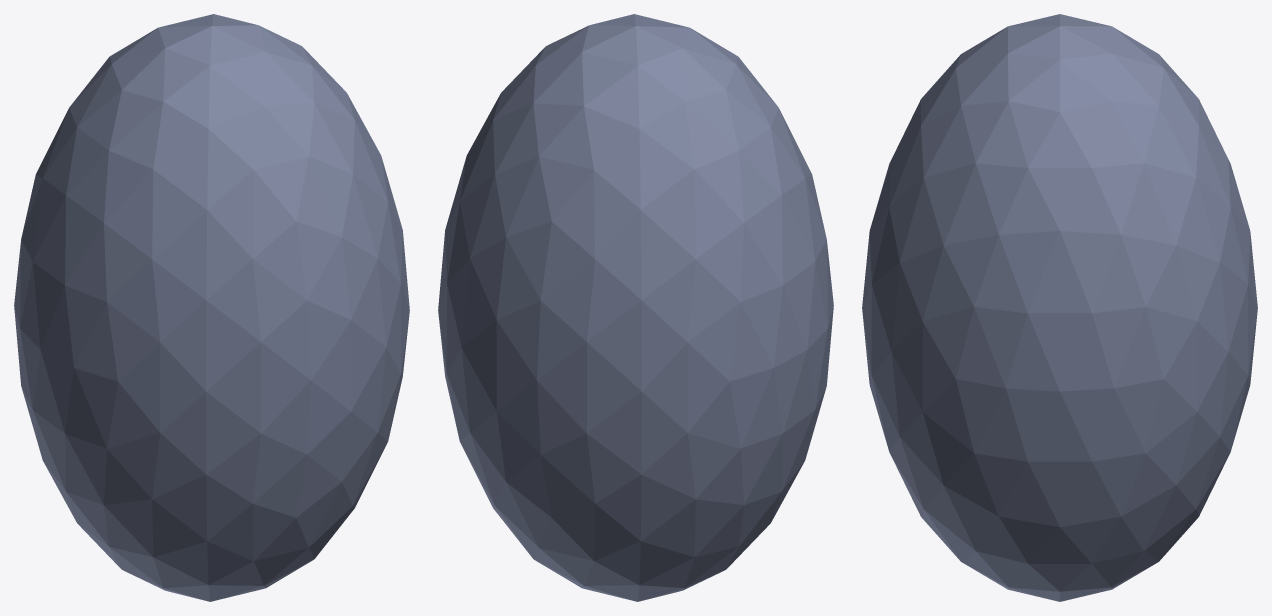
The model's file is luxury_184.glb.
The picture shows the model from 3 angles, left to right: view 1: azimuth 30°, elevation 25°; view 2: azimuth 150°, elevation 25°; view 3: azimuth 270°, elevation 25°; orthographic projection.
Parts seen in each view (by area): view 1: world; view 2: world; view 3: world.
Boxes of the visible parts, x1,y1,x2,y2 form: world: [14, 14, 409, 601]; world: [438, 14, 833, 601]; world: [862, 14, 1257, 601].
Size of the model in its own units: 1.05 by 1.65 by 1.05.
